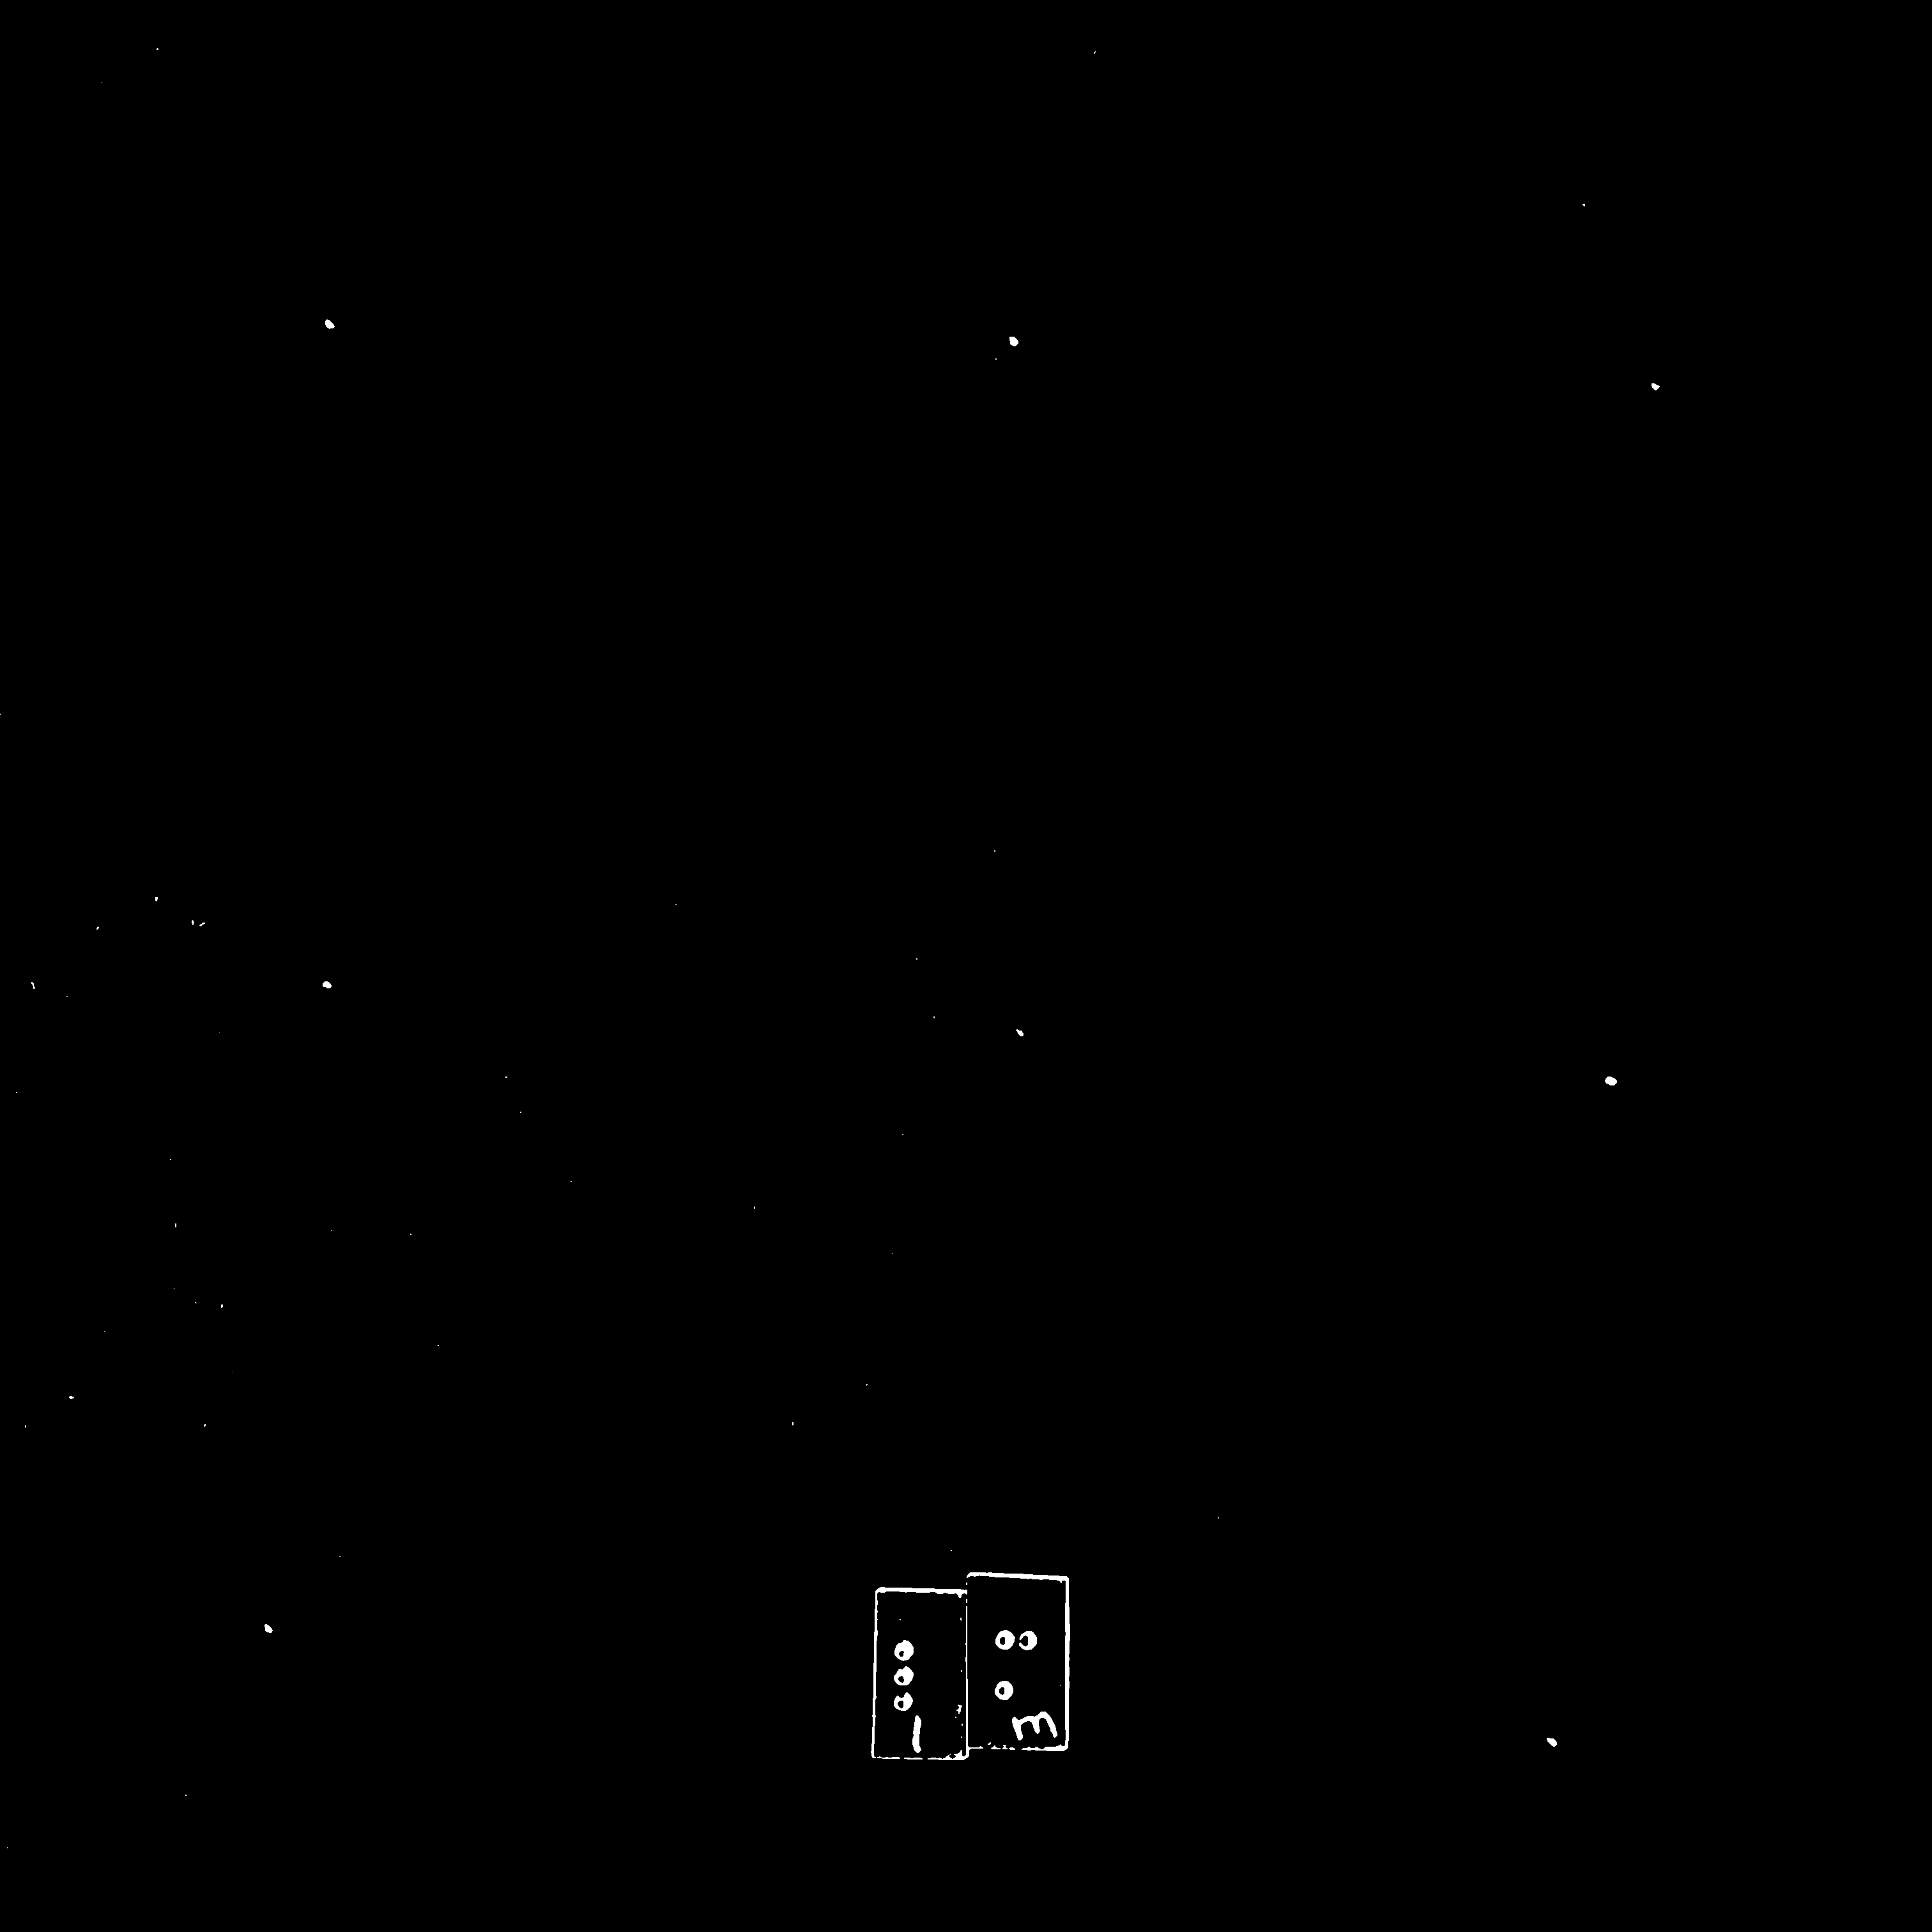l: (887, 1629, 958, 1718)
m: (982, 1616, 1051, 1711)
